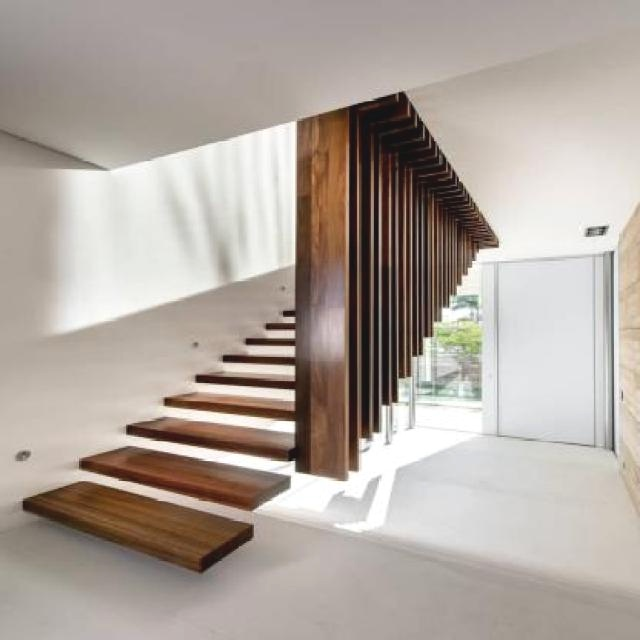stair: (5, 155, 500, 555)
